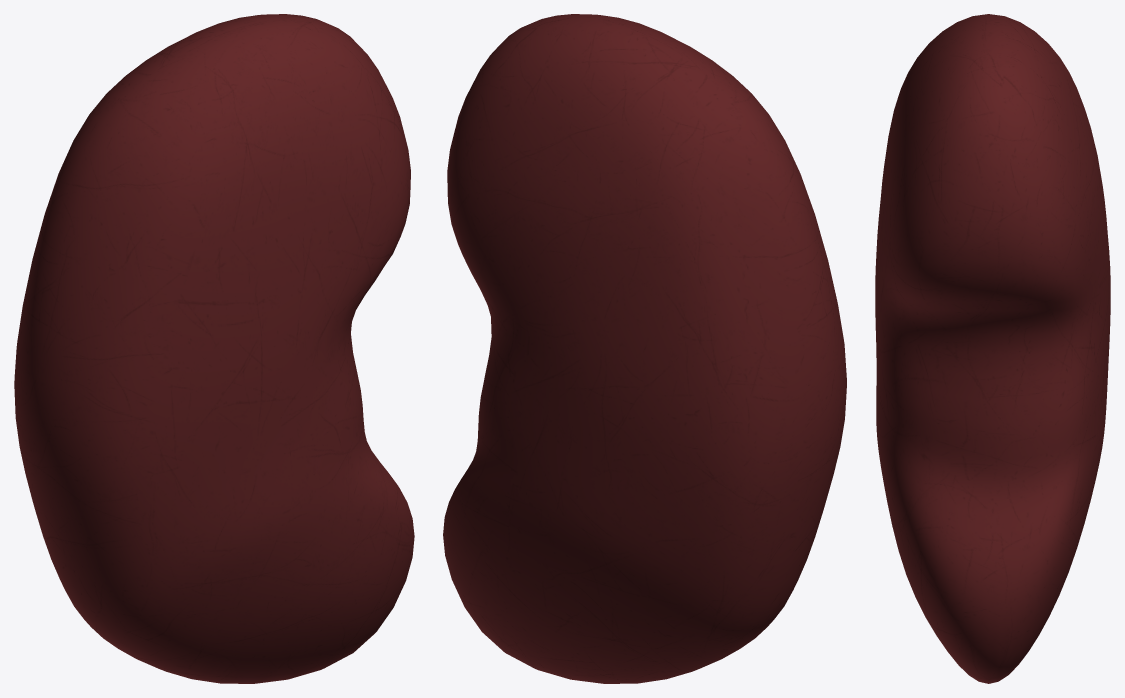
Rendered from Kidney.fbx.
3 renders of one model, left to right at view 1: azimuth 30°, elevation 25°; view 2: azimuth 150°, elevation 25°; view 3: azimuth 270°, elevation 25°, orthographic. The views are drawn at different scales.
Parts seen in each view (by area): view 1: Kidney; view 2: Kidney; view 3: Kidney.
Boxes of the visible parts, bbox=[...] form: Kidney: bbox=[14, 14, 414, 683]; Kidney: bbox=[443, 14, 846, 683]; Kidney: bbox=[875, 14, 1110, 683].
Bounding box in the file's own units: 144 × 242 × 83.71.
